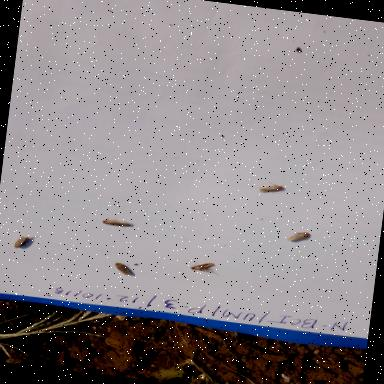pbw: (98, 214, 136, 232), (188, 260, 224, 278), (280, 227, 314, 245), (8, 230, 33, 254), (254, 180, 284, 198), (110, 261, 136, 278)
